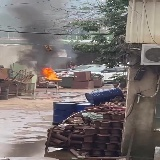fire: (42, 68, 62, 80)
